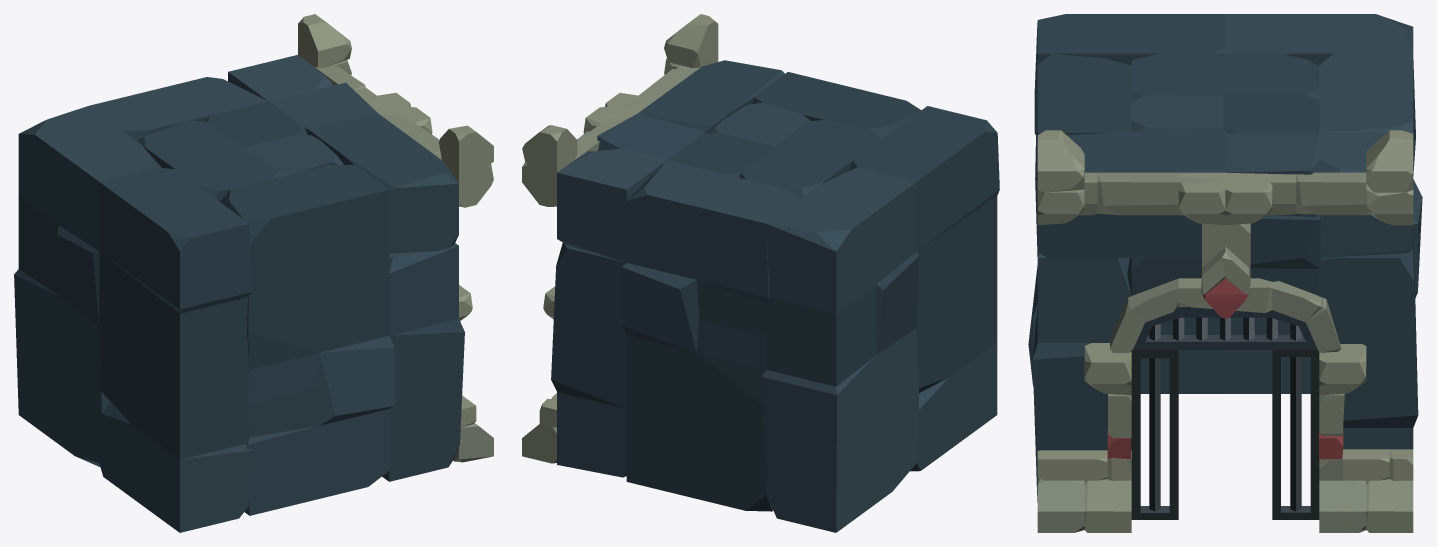
Rendered from prison_cell_single.fbx.
3 views of the same model, side by side, from view 1: azimuth 30°, elevation 25°; view 2: azimuth 150°, elevation 25°; view 3: azimuth 270°, elevation 25° (orthographic). The views are drawn at different scales.
Parts seen in each view (by area): view 1: prison_cell_single; view 2: prison_cell_single; view 3: prison_cell_single.
Boxes of the visible parts, x1=… form: prison_cell_single: x1=14, y1=14, x2=493, y2=532; prison_cell_single: x1=522, y1=14, x2=999, y2=532; prison_cell_single: x1=1028, y1=14, x2=1422, y2=532.
Size of the model in its own units: 457 by 450 by 420.
